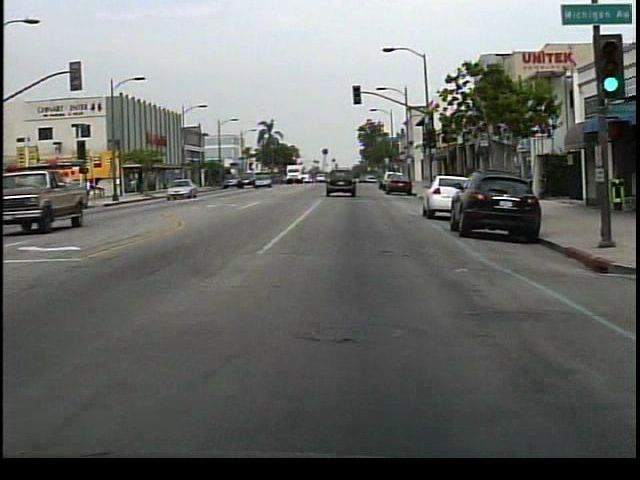person: (80, 180, 99, 208)
